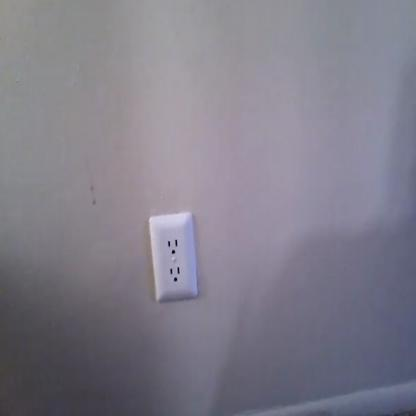OUTLET: (149, 214, 199, 301)
